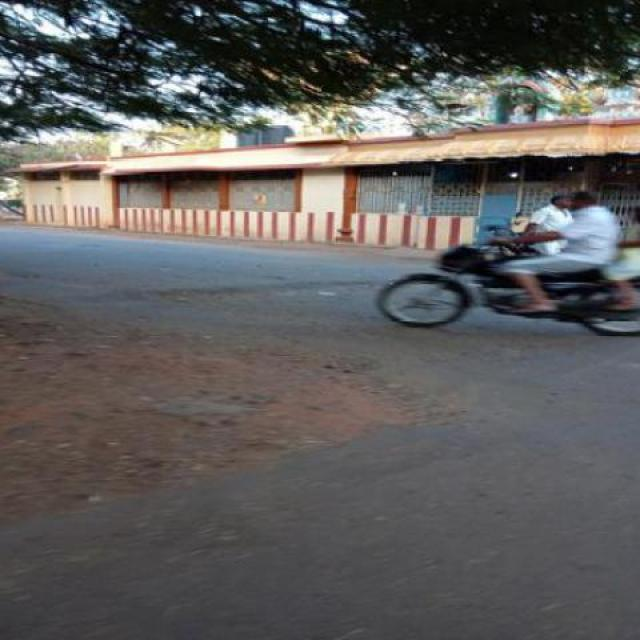Unmarked Bump: (0, 281, 419, 316)
